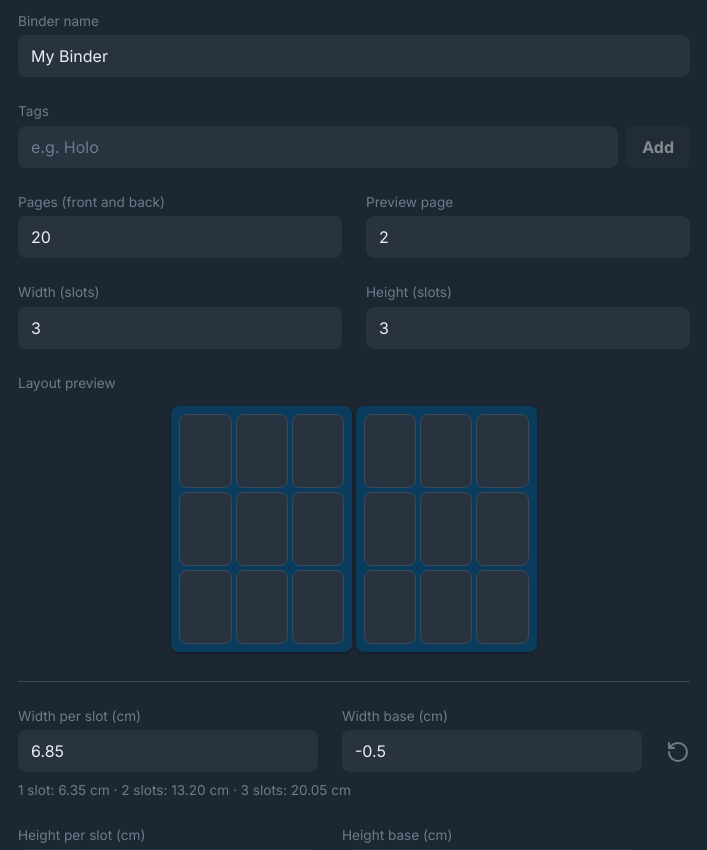
BinderDetailsPage (Edit Details tab) › leaves an invalid dirty field out of the save and sends no request when nothing else is dirty
Replace the text in the number field labelled "Width (slots)" with "0" at (180, 328), box [18,307,342,349]
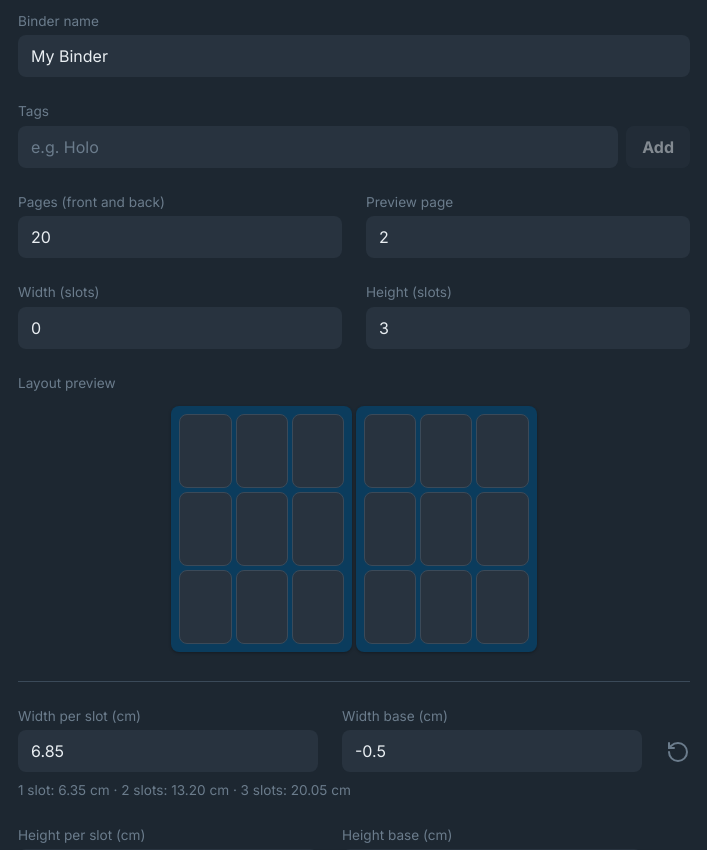
Leave the number field labelled "Width (slots)", box [18,307,342,349]
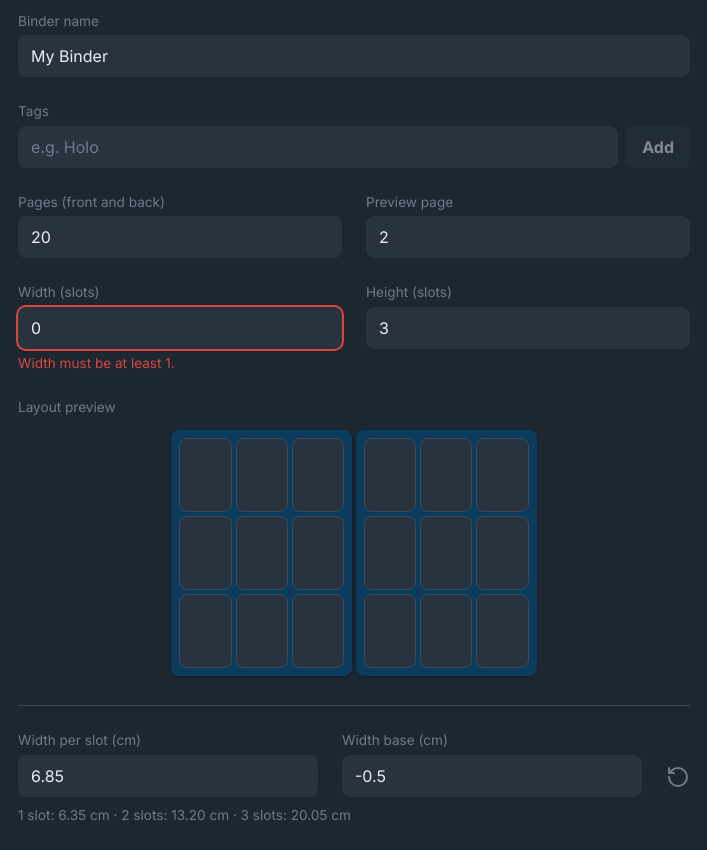
Check: the text "Width must be at least 1." is shown, box [18,355,175,371]
